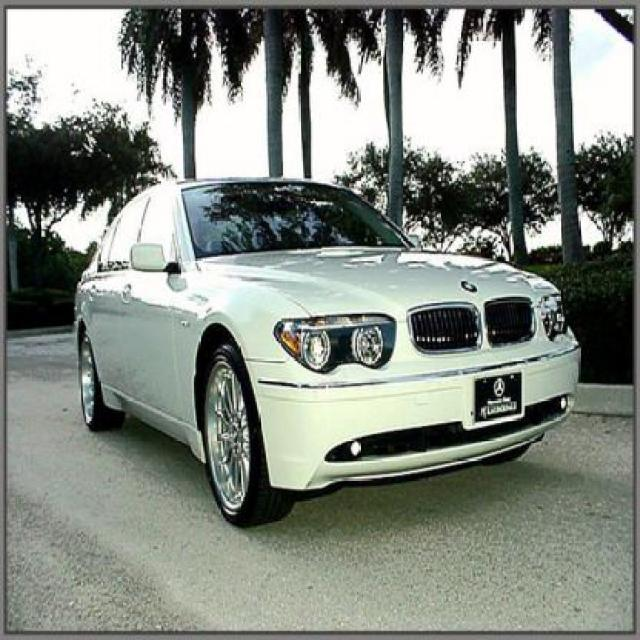License-Plates: (474, 372, 522, 423)
